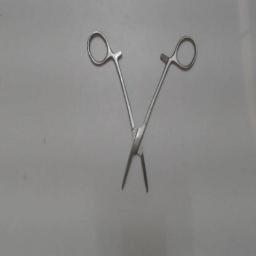Mayo Needle Holder: (84, 28, 200, 200)
